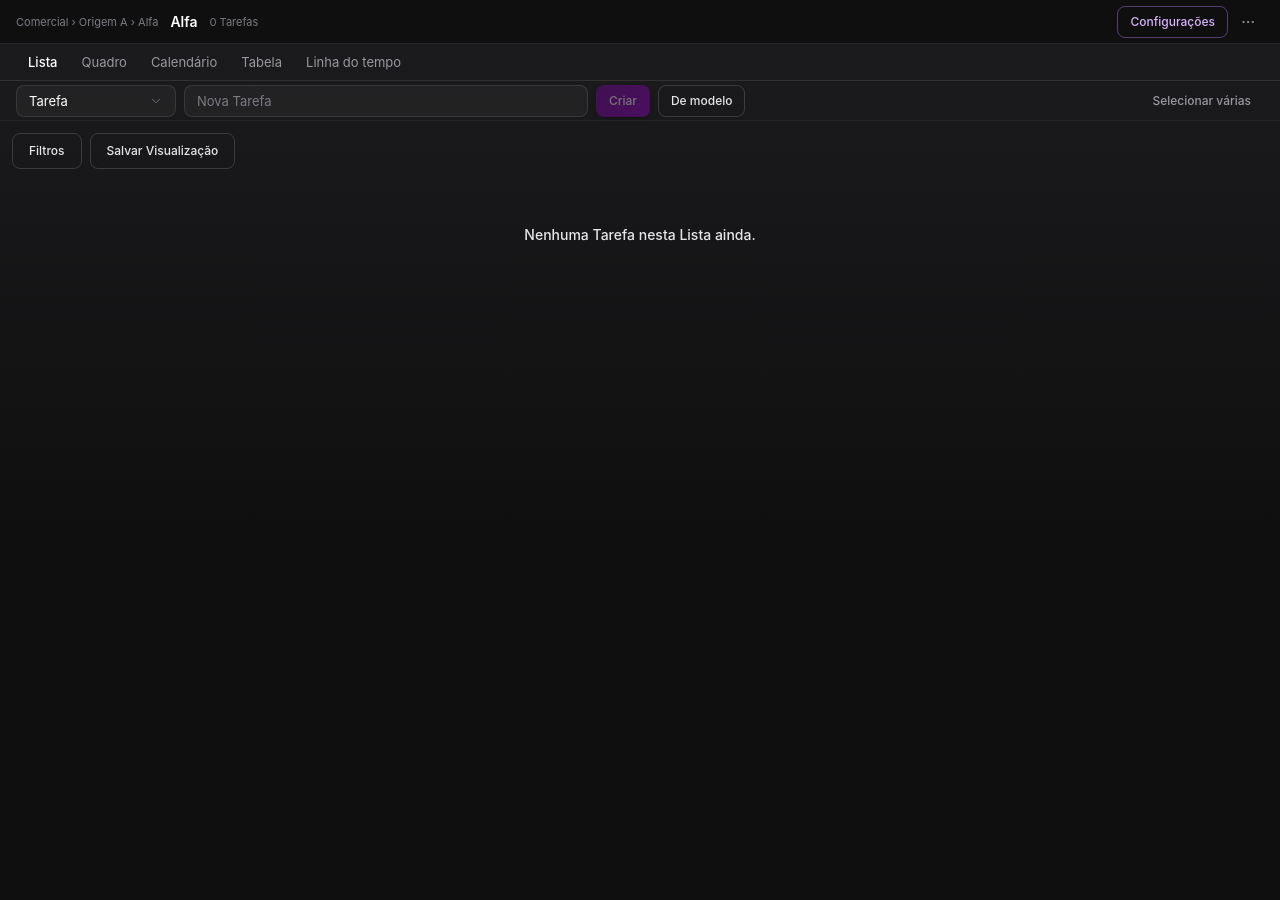
Scenario: Mover para… — o cabeçalho da página da Lista › "Mover para…" é o último item e abre o diálogo da Lista
Click the button named "Ações".
click(1248, 22)  # box left=1232, top=6, right=1264, bottom=38
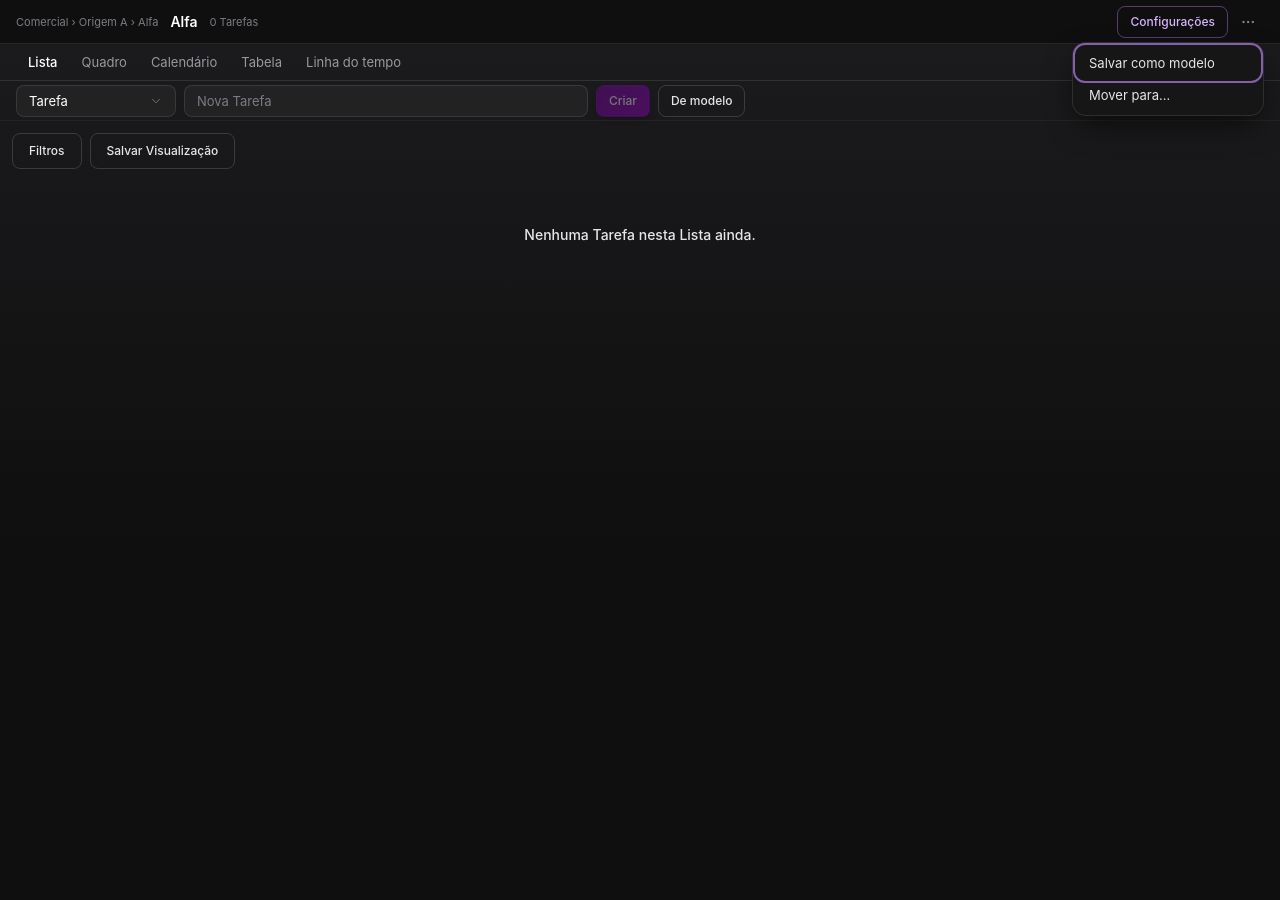
Check: the text "Mover para…" is shown, box left=1089, top=86, right=1170, bottom=102
Click the menu item "Mover para…".
click(1168, 94)  # box left=1077, top=78, right=1259, bottom=110
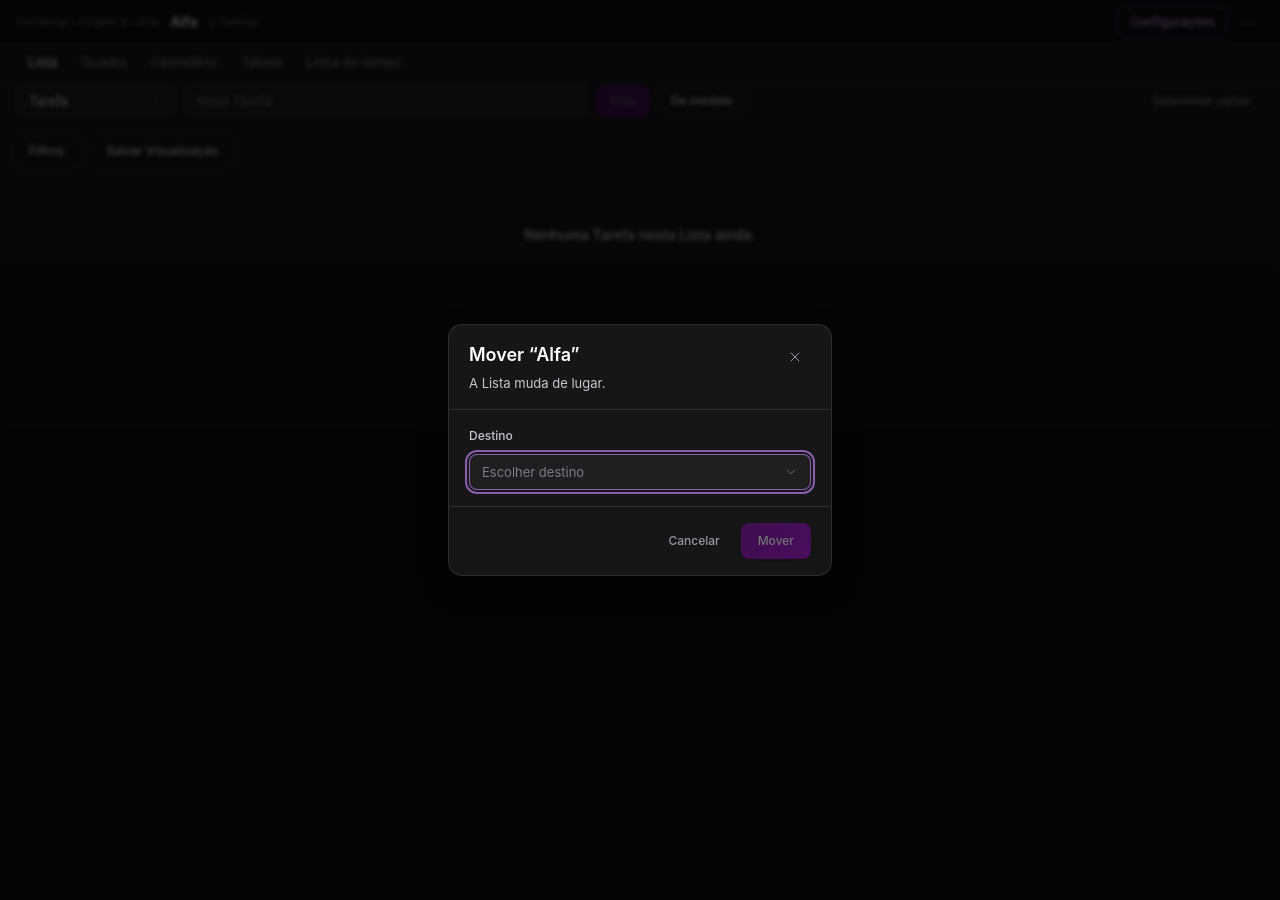
Check: the dialog "Mover “Alfa”" is shown, box left=448, top=324, right=832, bottom=576
